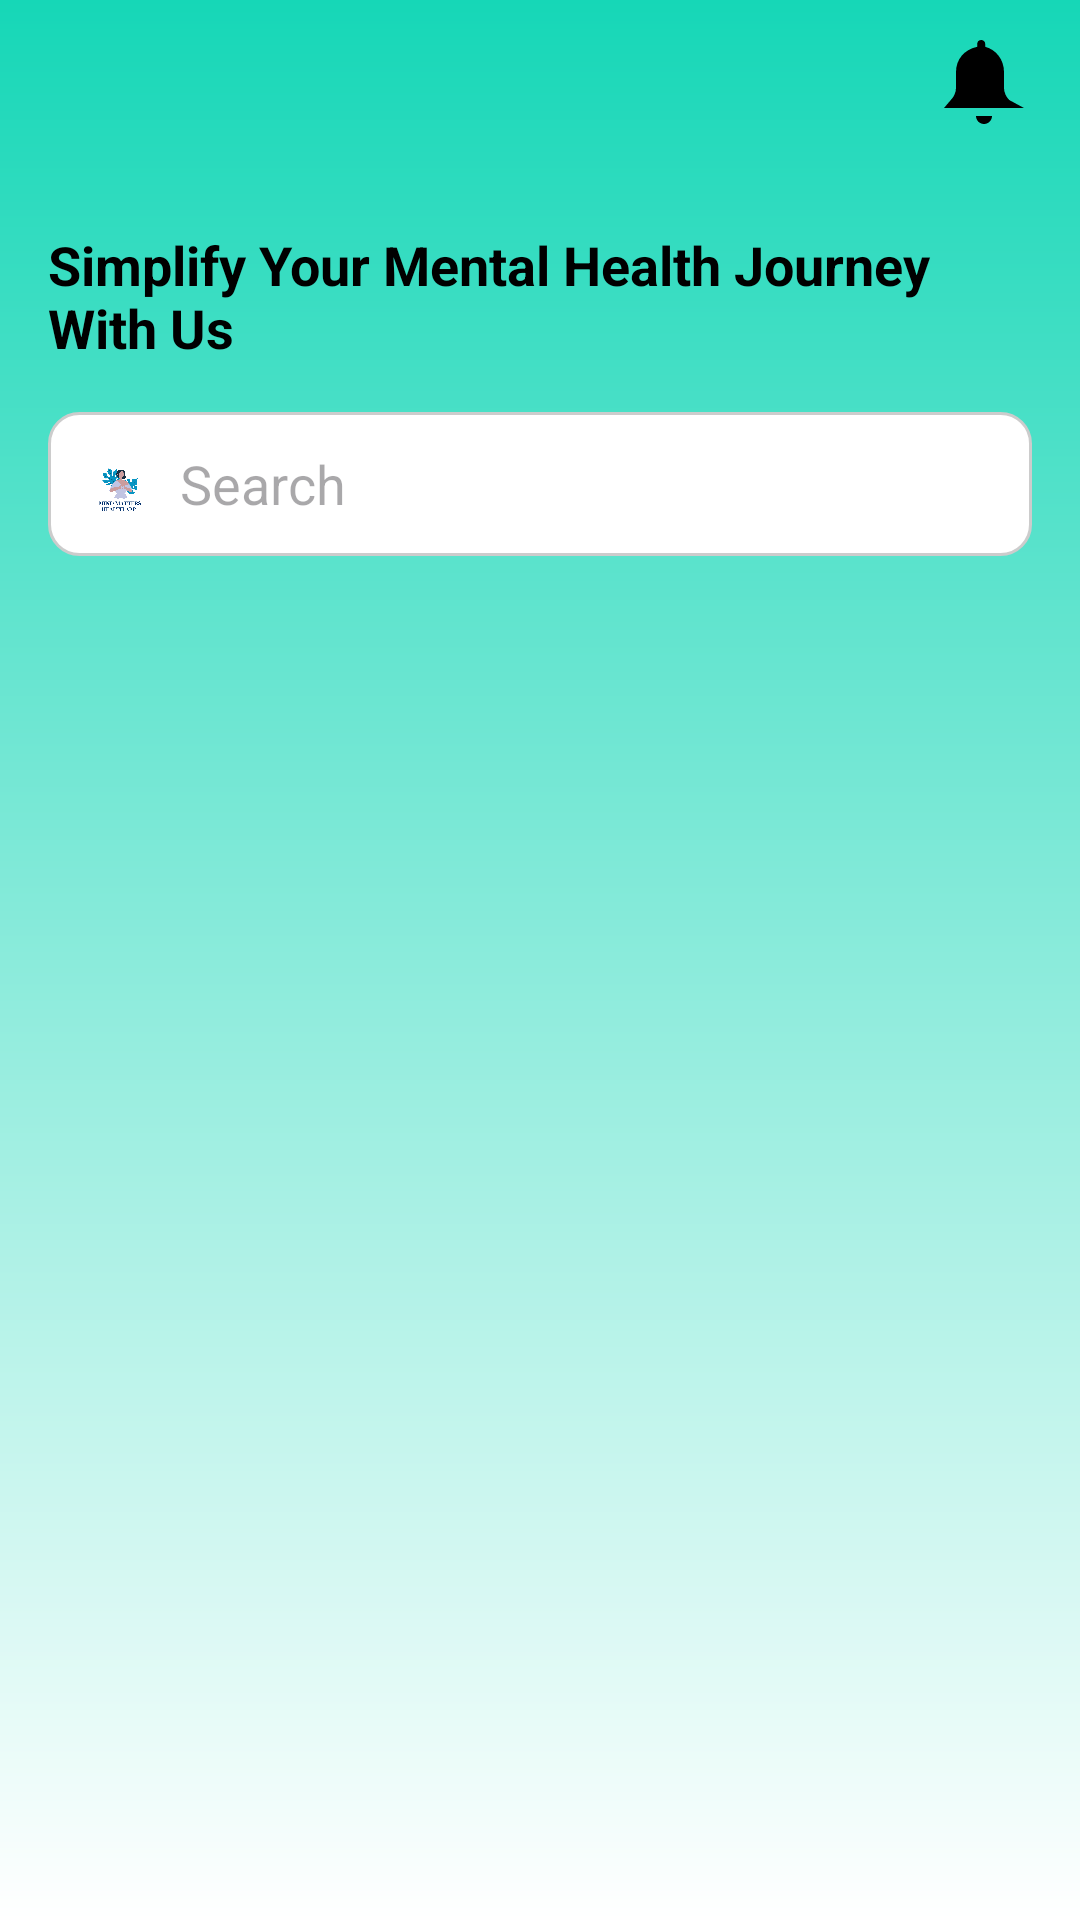

Screen size 1080px×1920px. Icon name, then its center in pixels as [x,y]:
bell: [984,82]
